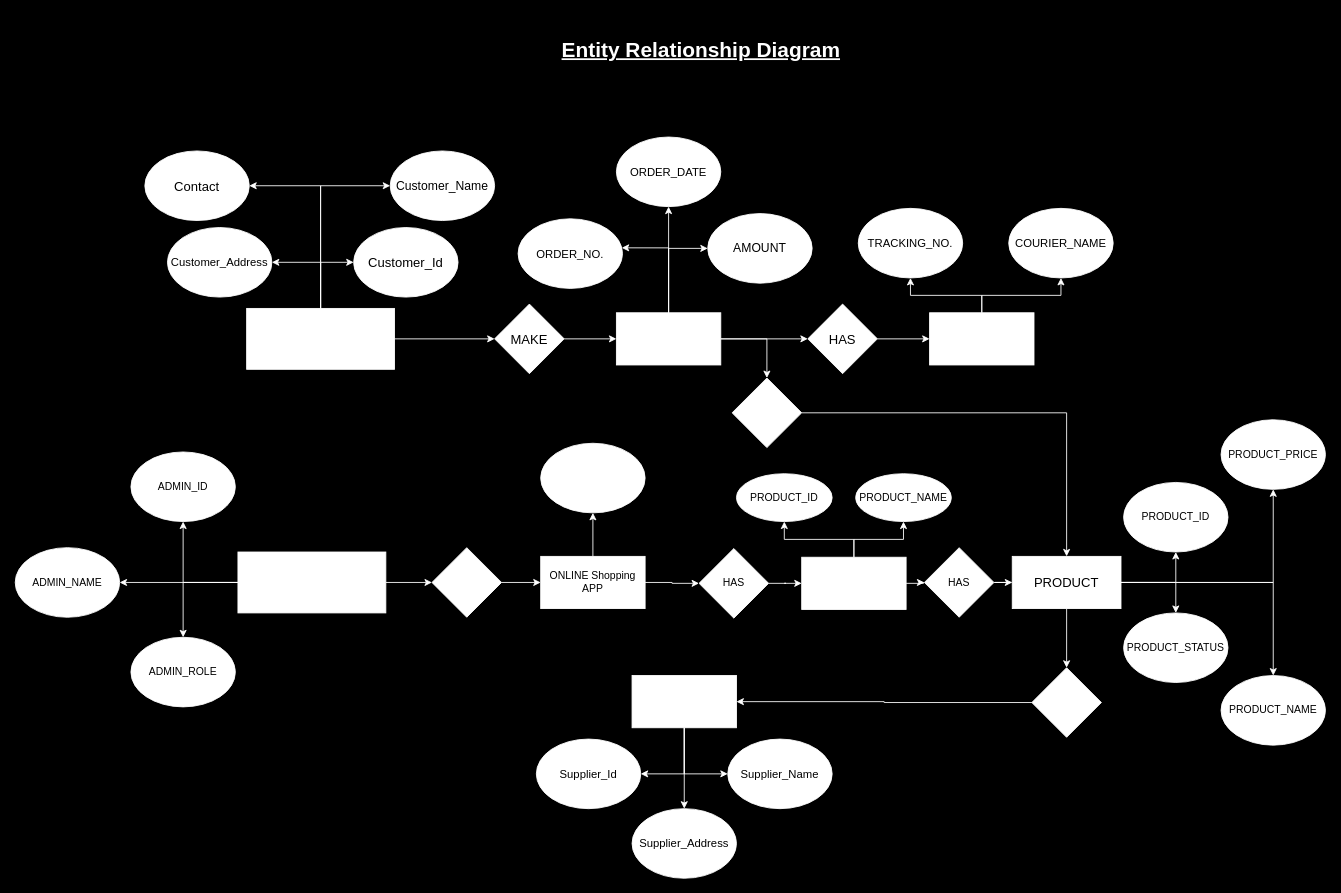
Some shapes in this 1341 by 893 pixel diagram are drawn without their labels. Each missing label, with the centre of its shape:
"ADMIN" goes at [311,582].
"APP" goes at [592,477].
"CONTAINS" goes at [766,412].
"CUSTOMER" goes at [320,338].
"MANAGE" goes at [466,582].
"Order" goes at [668,338].
"PRODUCT CATEGORY" goes at [853,582].
"SUPPLIER" goes at [683,701].
"SUPPLIES" goes at [1066,702].
"TRACKING" goes at [981,338].
